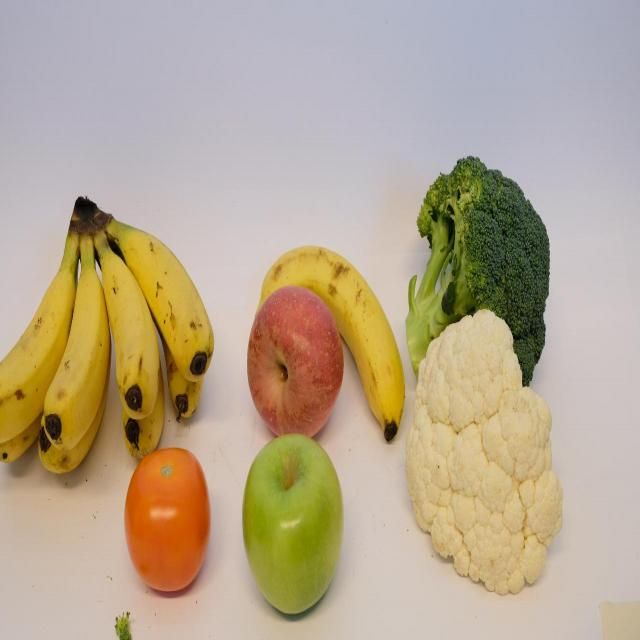apple: (242, 430, 347, 622), (244, 286, 345, 443)
banana: (250, 244, 410, 448), (106, 196, 220, 398), (82, 212, 168, 423), (39, 215, 111, 459), (0, 251, 77, 441)
broccoli: (407, 154, 552, 402)
cauliflower: (406, 305, 564, 602)
tomato: (125, 446, 214, 602)
